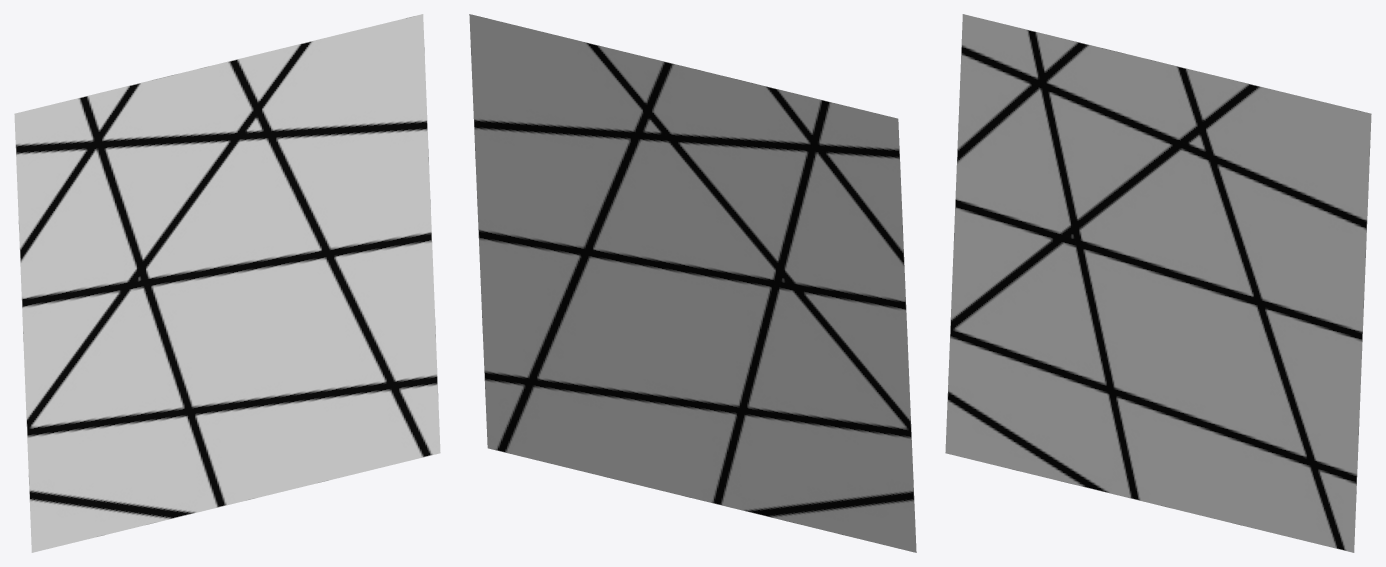
3 renders of one model, left to right at view 1: azimuth 30°, elevation 25°; view 2: azimuth 150°, elevation 25°; view 3: azimuth 330°, elevation 25°, orthographic. The views are drawn at different scales.
Visible parts, largest first — view 1: Grid; view 2: Grid; view 3: Grid.
Boxes of the visible parts, <box> form: Grid: <box>14,14,440,552</box>; Grid: <box>469,14,916,552</box>; Grid: <box>945,14,1371,552</box>.
Size of the model in its own units: 2 by 1.99 by 0.1471.
Materials: 1 (1 with a texture image).
